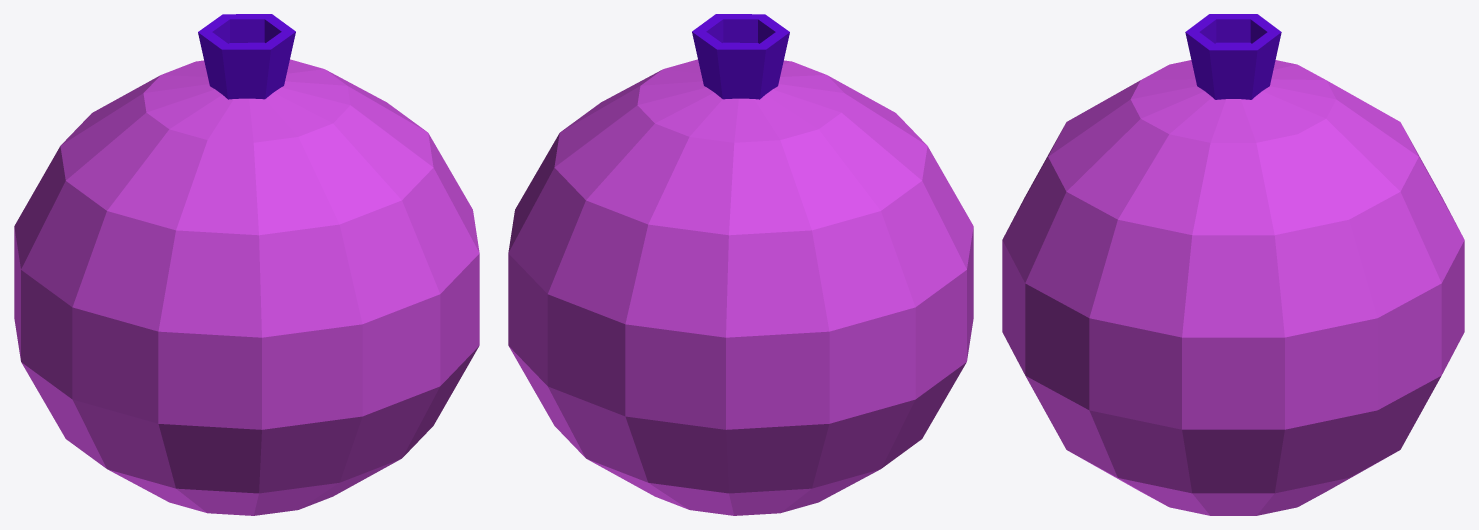
File: Bomb1.fbx
The picture shows the model from 3 angles, left to right: view 1: azimuth 30°, elevation 25°; view 2: azimuth 150°, elevation 25°; view 3: azimuth 270°, elevation 25°; orthographic projection.
Parts seen in each view (by area): view 1: Circle; view 2: Circle; view 3: Circle.
Part boxes in pixels (x1=…): Circle: x1=14, y1=14, x2=479, y2=515; Circle: x1=508, y1=14, x2=973, y2=515; Circle: x1=1002, y1=14, x2=1464, y2=515.
Bounding box in the file's own units: 100 × 110 × 100.
